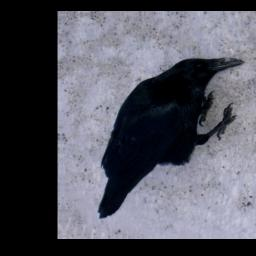Crow: (94, 58, 249, 221)
